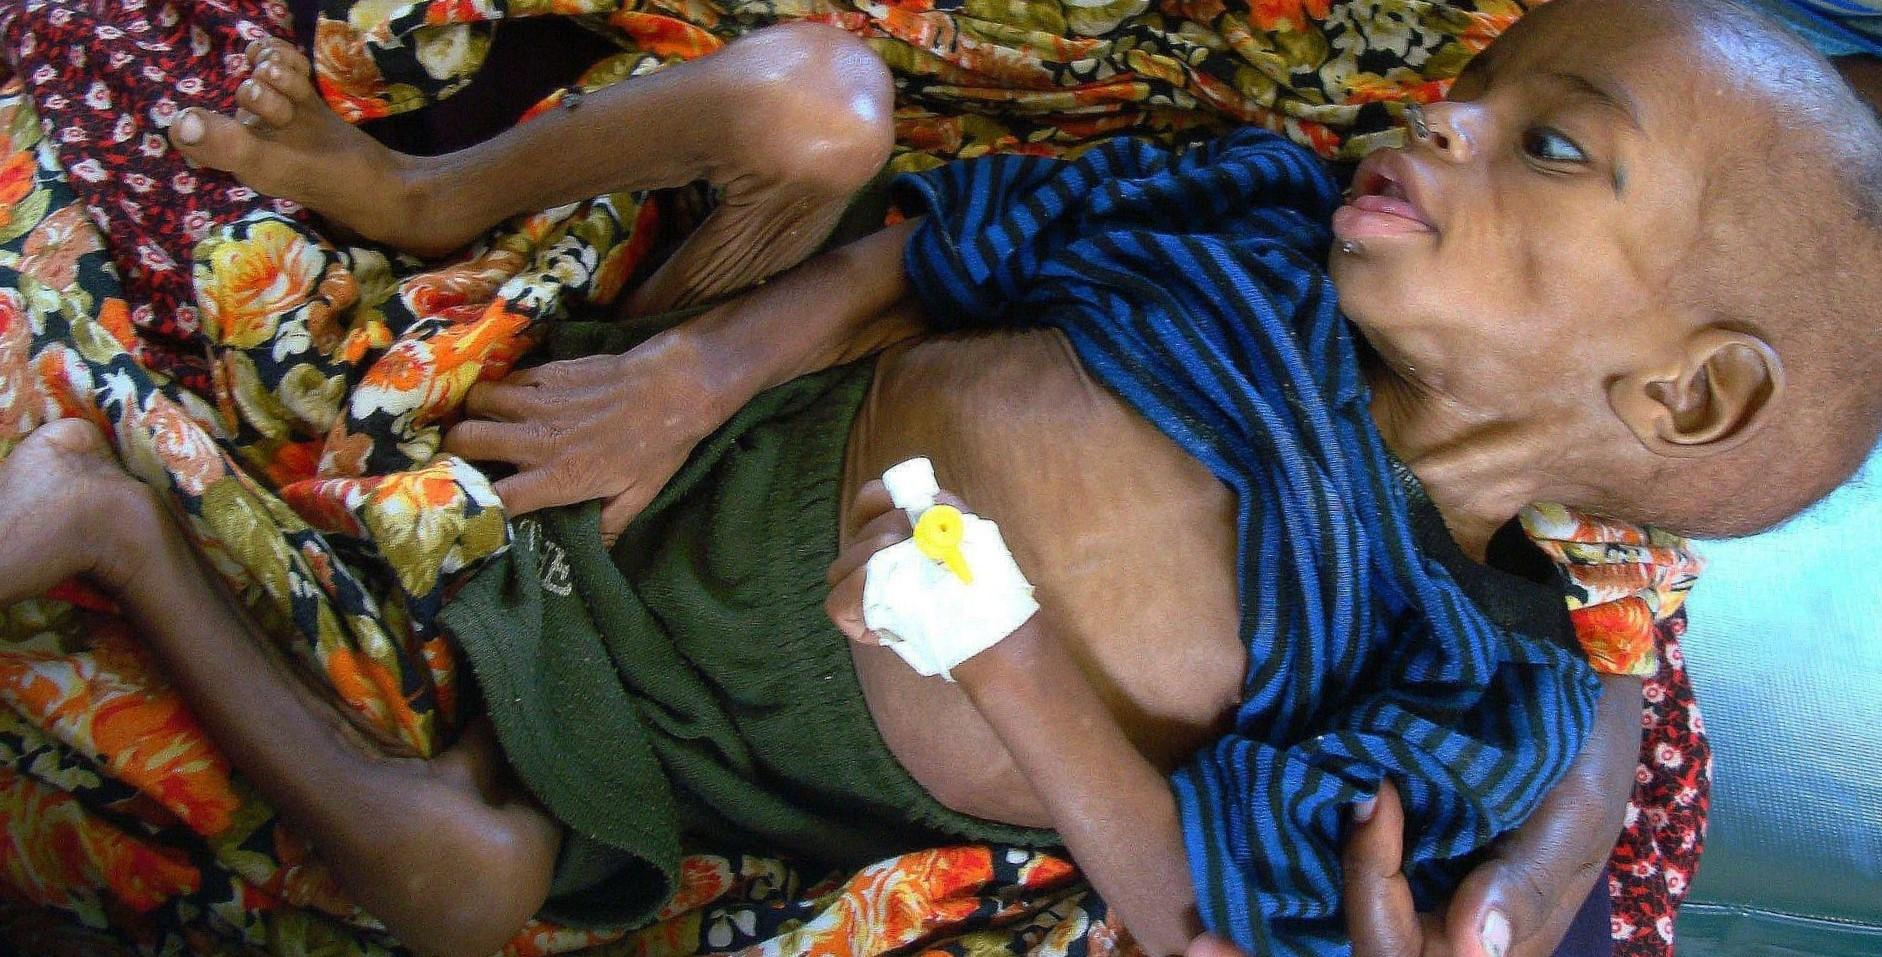Stunting: (1333, 0, 1882, 623)
